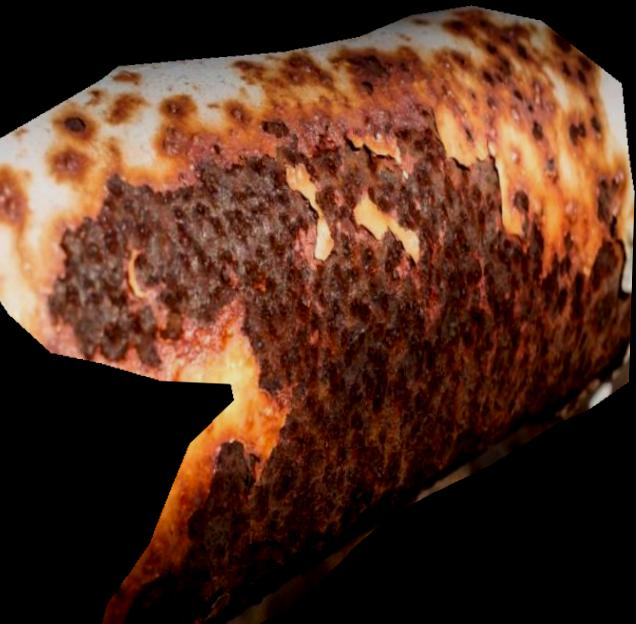Pitting Corrosion: (0, 1, 636, 624)
